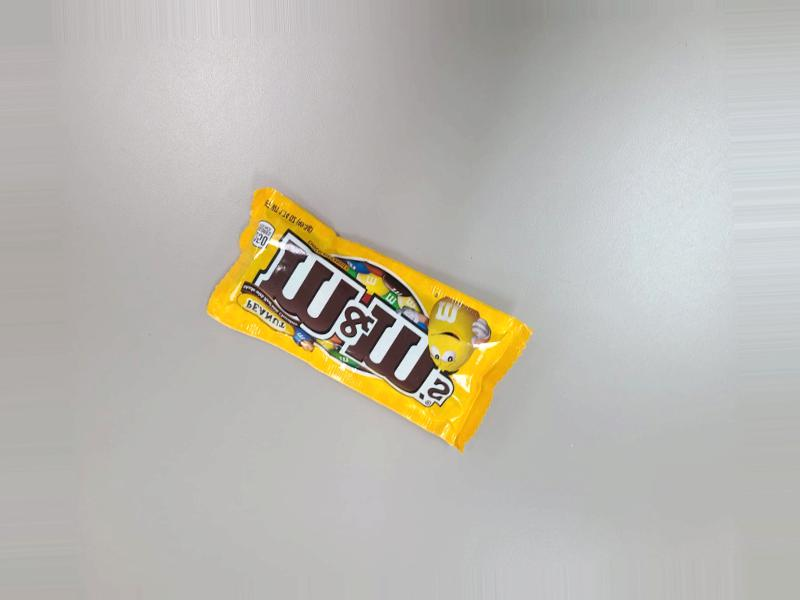m&m: (217, 191, 552, 426)
